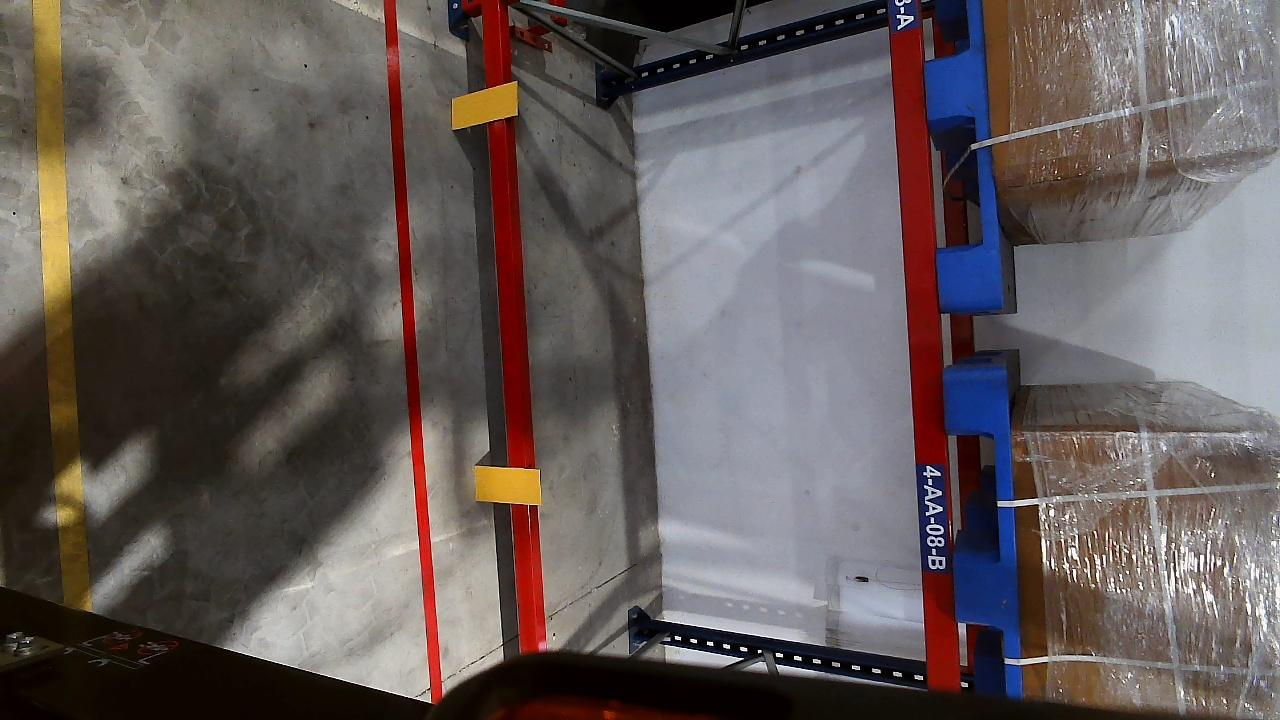h_rack: (894, 0, 954, 683), (478, 1, 541, 643)
orange_strip: (451, 82, 520, 129), (473, 466, 540, 505)
red_line: (374, 1, 452, 683)
small_pallet: (914, 2, 1008, 306), (942, 359, 1027, 680)
yellow_line: (27, 0, 85, 602)
